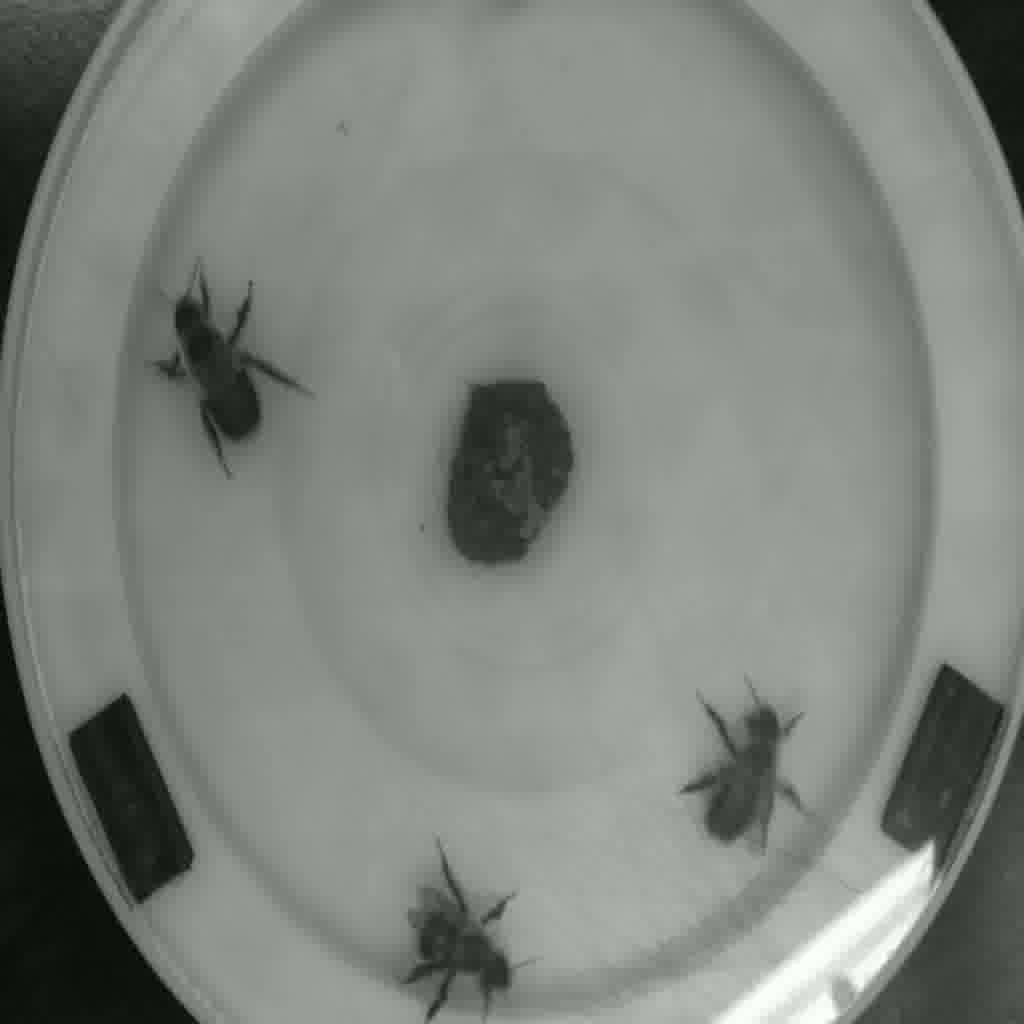bee: (148, 258, 305, 452), (389, 841, 553, 1024), (675, 663, 823, 852)
